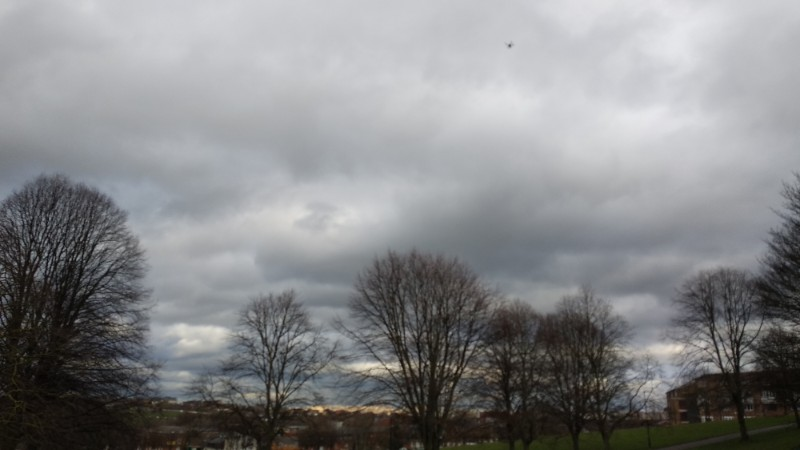drone: (505, 41, 514, 50)
